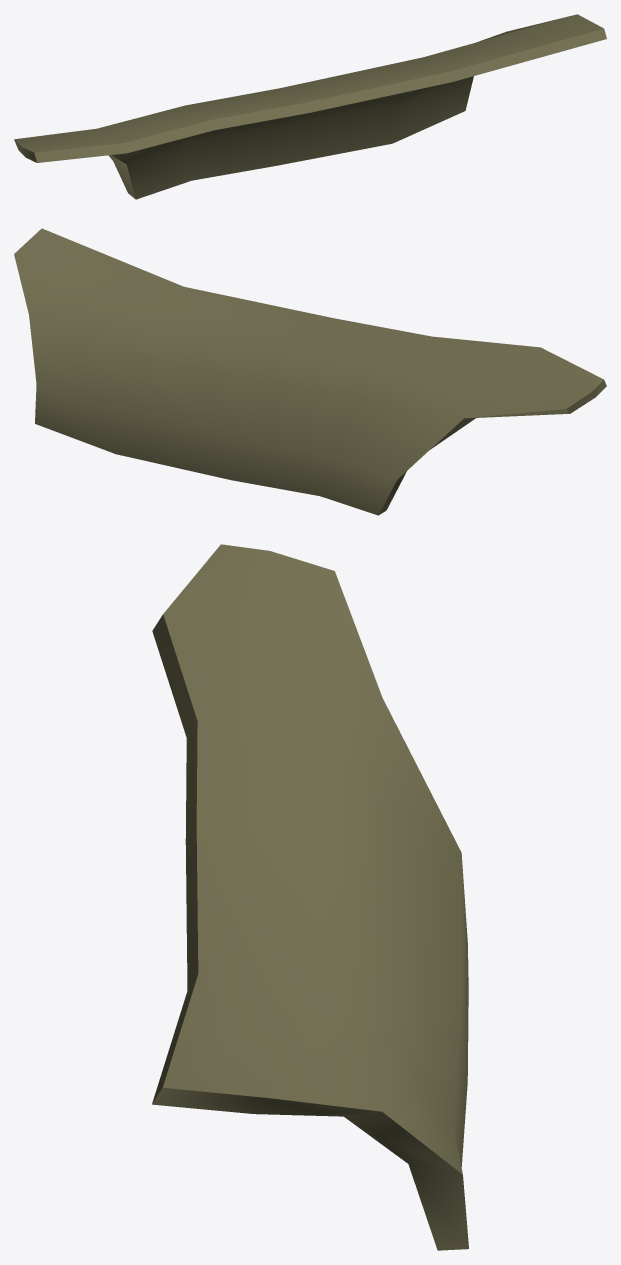
File: shupi1.fbx
3 renders of one model, top to bottom at view 1: azimuth 30°, elevation 25°; view 2: azimuth 150°, elevation 25°; view 3: azimuth 270°, elevation 25°, orthographic. The views are drawn at different scales.
Parts seen in each view (by area): view 1: pasted__pPipe2; view 2: pasted__pPipe2; view 3: pasted__pPipe2.
Part boxes in pixels (left/top/right/bottom): pasted__pPipe2: left=14, top=14, right=606, bottom=199; pasted__pPipe2: left=14, top=228, right=606, bottom=515; pasted__pPipe2: left=152, top=544, right=468, bottom=1250.
Size of the model in its own units: 8.14 by 1.83 by 2.01.
